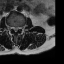CCS_stenosis: (14, 25, 17, 34)
LFS_stenosis: (19, 25, 21, 31)
LLS_stenosis: (17, 25, 19, 32)
RFS_normal: (10, 25, 13, 30)
RLS_normal: (12, 25, 15, 32)
